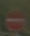No entry: (5, 6, 25, 30)
